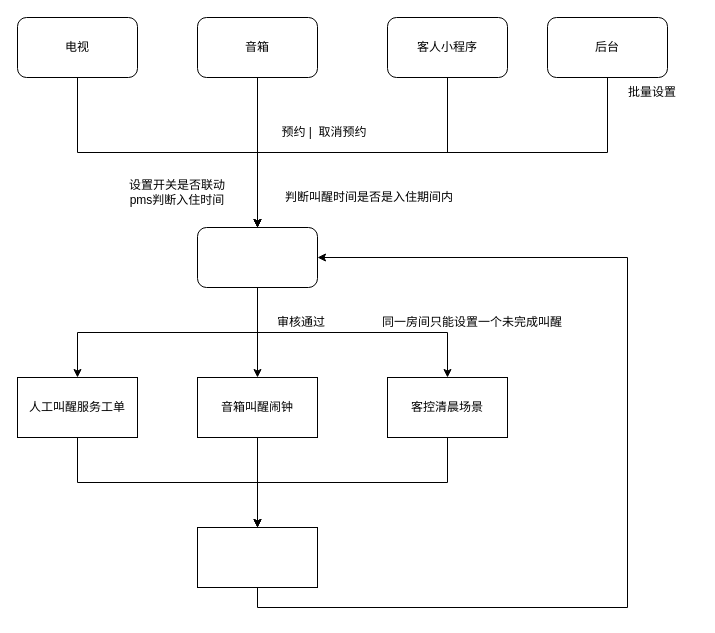
The diagram is 715 pixels wide and 633 high, and some of its shapes have lost their labels. The shapes that lost their labels are listed below. From the top down, each one's box as (x1, y1, x2, y2) in pixels, then its label:
(196, 226, 318, 288): 前厅预约审核
(196, 526, 318, 588): 反馈叫醒执行状态
